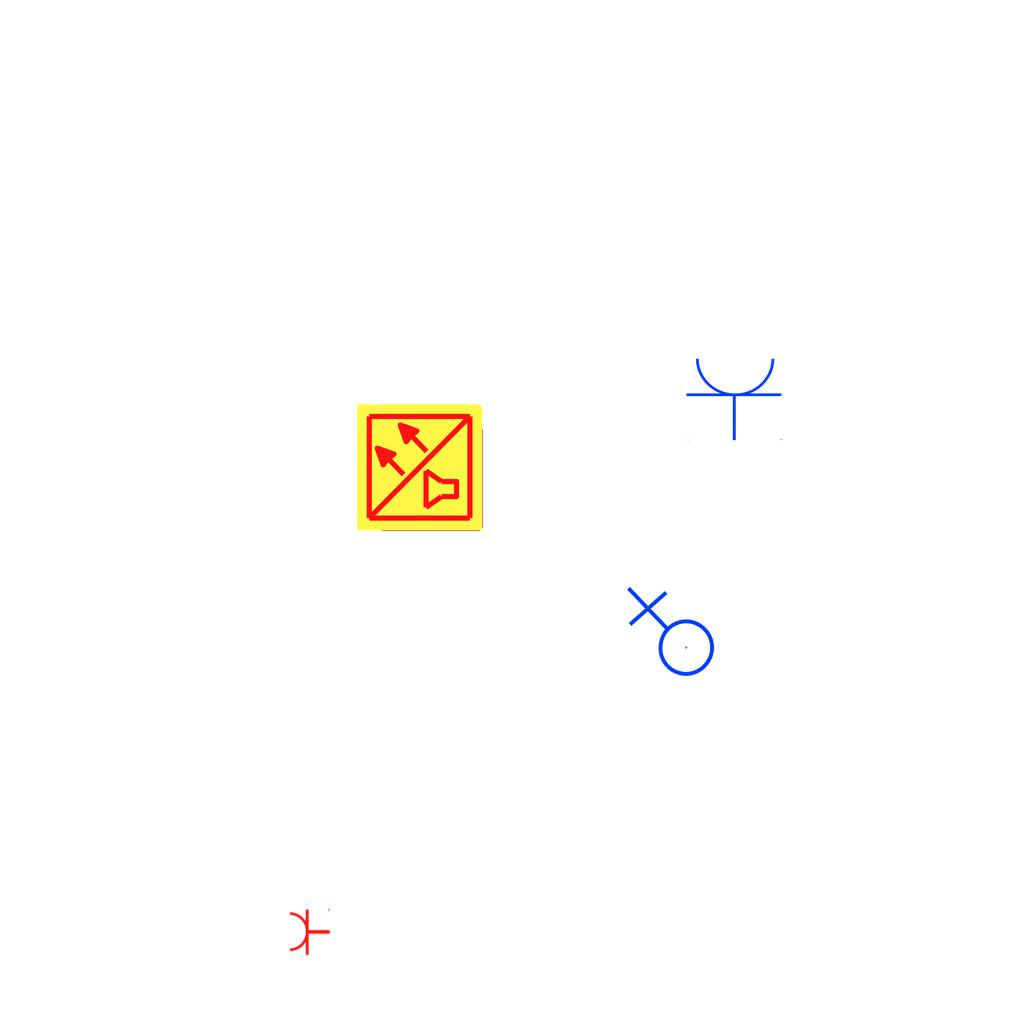Elektroanschluss_allgemein_230V_Geraeteanschlussdose_230V: (622, 586, 716, 685)
OKW_Multisensormelder_(Kombination_optischer_Rauch-Kahlenmonoxid_Waerme-Melder): (354, 401, 486, 533)
Schukosteckdose_einfach: (685, 354, 785, 441), (288, 906, 331, 956)
